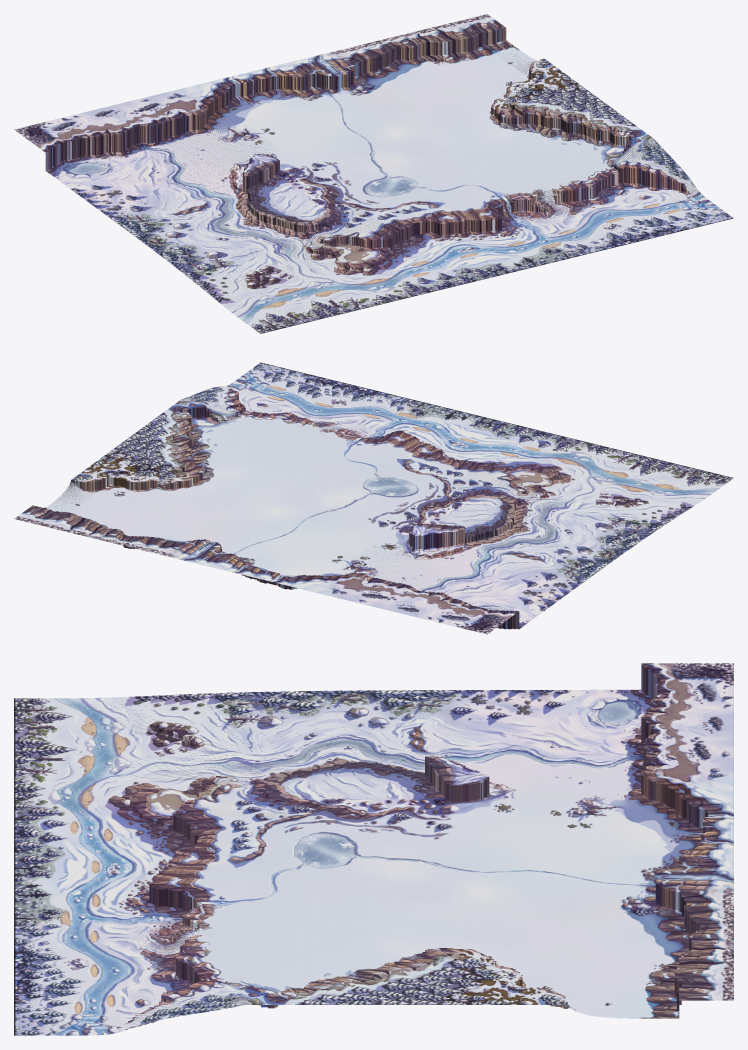
File: dorfmap_c20_z25.obj
The picture shows the model from 3 angles, top to bottom: view 1: azimuth 30°, elevation 25°; view 2: azimuth 150°, elevation 25°; view 3: azimuth 270°, elevation 25°; orthographic projection. The views are drawn at different scales.
Bounding box in the file's own units: 336 × 16.2 × 303.
